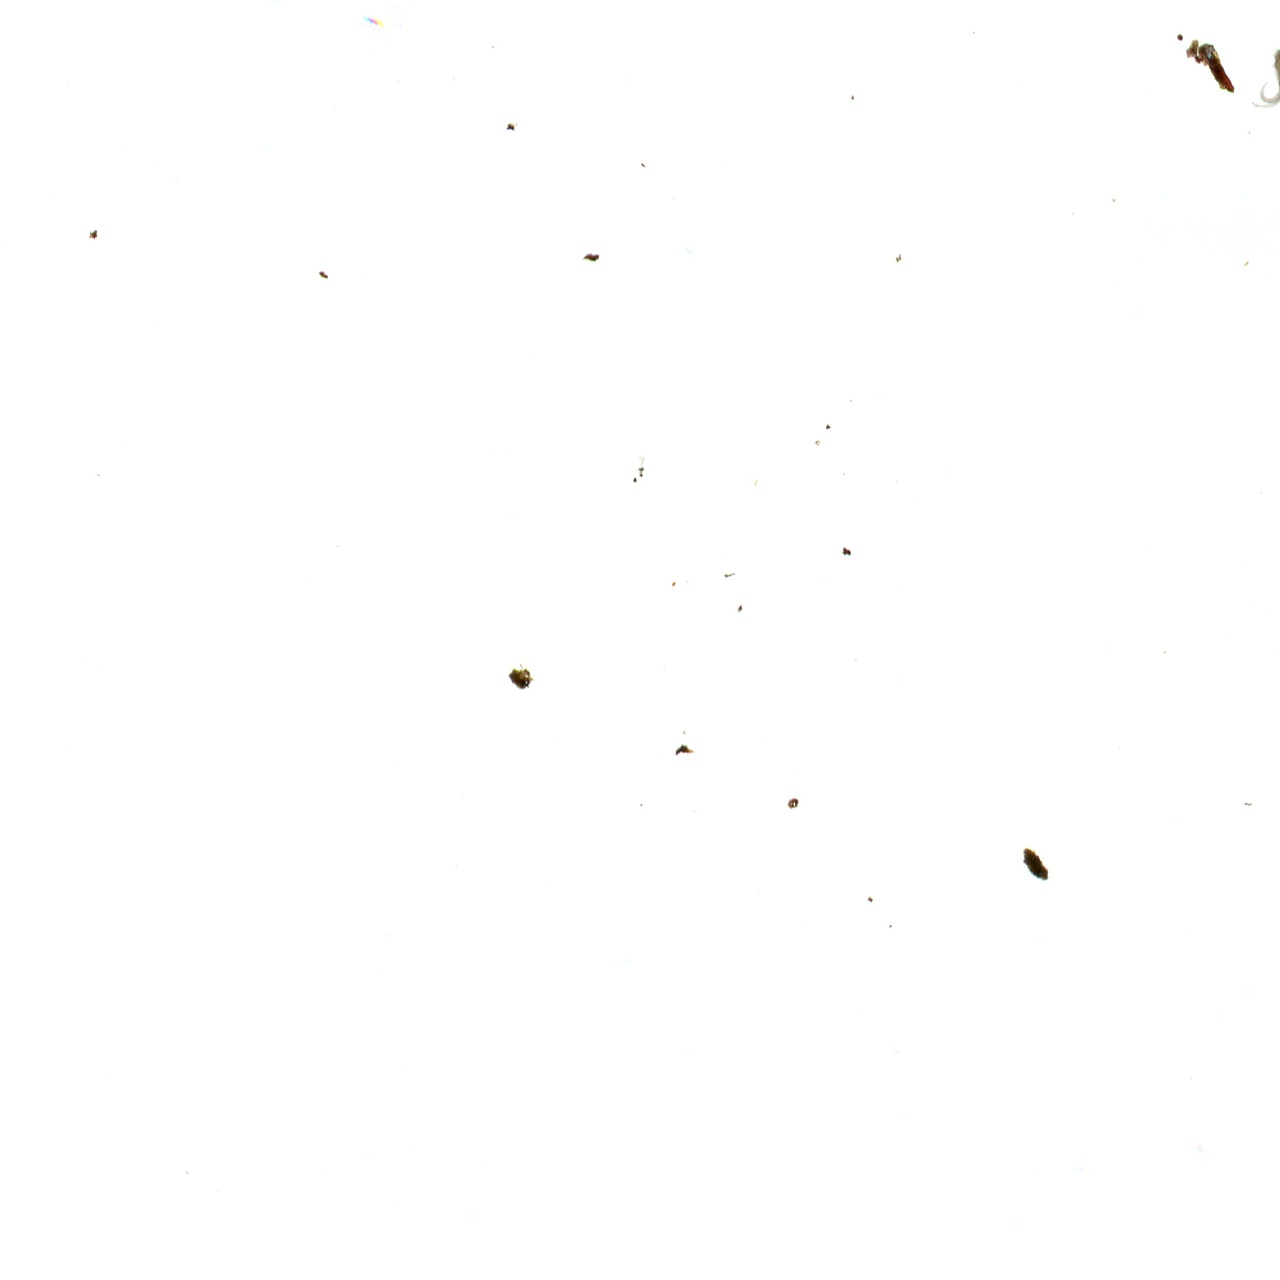arthropod: (1224, 26, 1280, 229)
